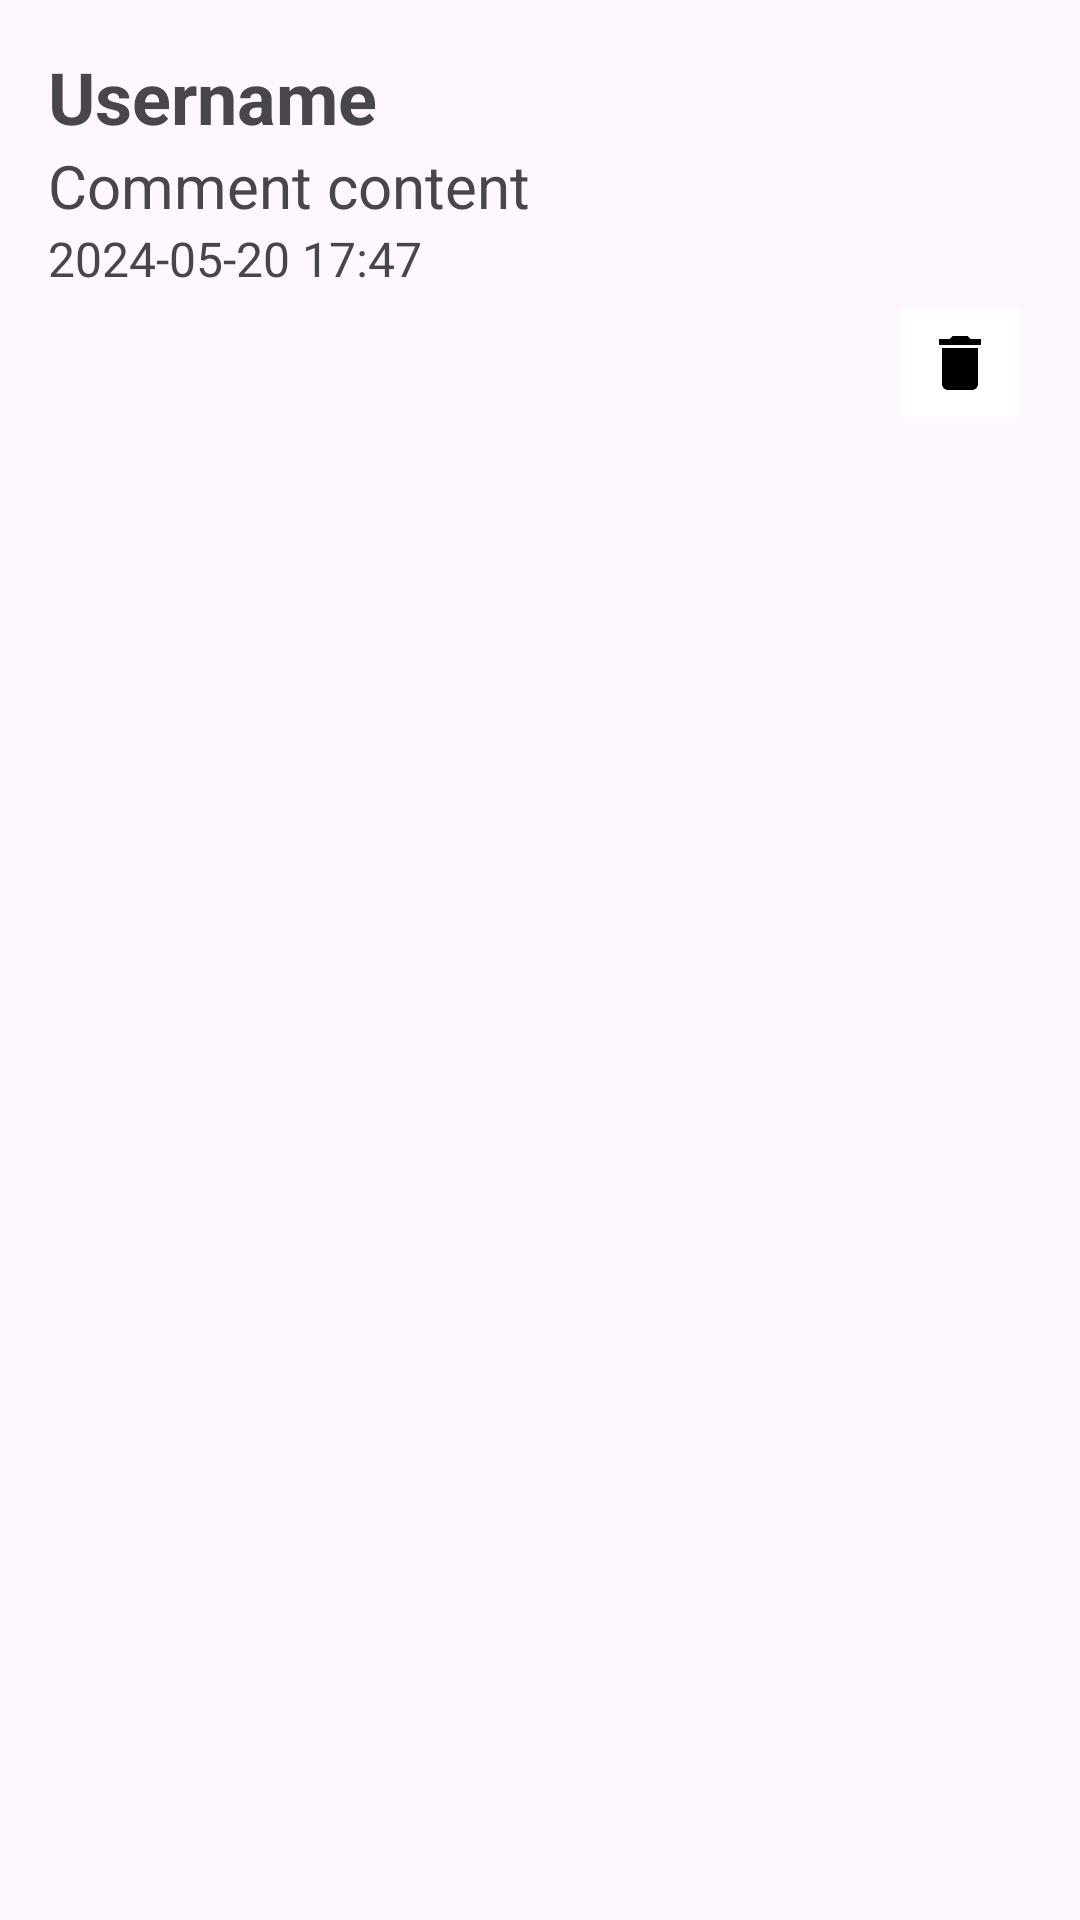

Locate icon controls on the screen. Image size 1080 x 1920, boxes as {"x1": x1, "y1": y1, "x2": x2, "y2": y2}.
delete: {"x1": 939, "y1": 336, "x2": 981, "y2": 390}
